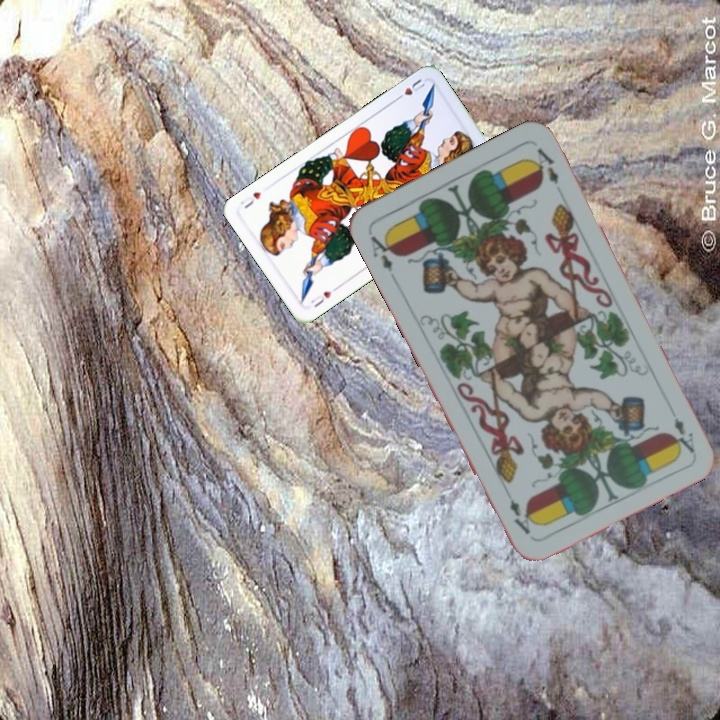EA: (366, 229, 399, 274), (670, 413, 697, 456)
HU: (391, 74, 429, 103), (307, 283, 341, 310)
